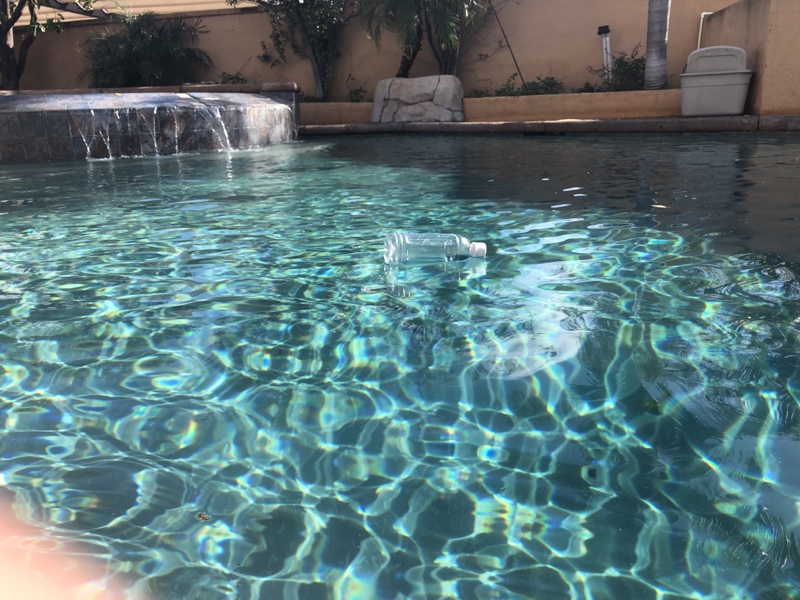Plastic Bottle: (381, 225, 490, 270)
